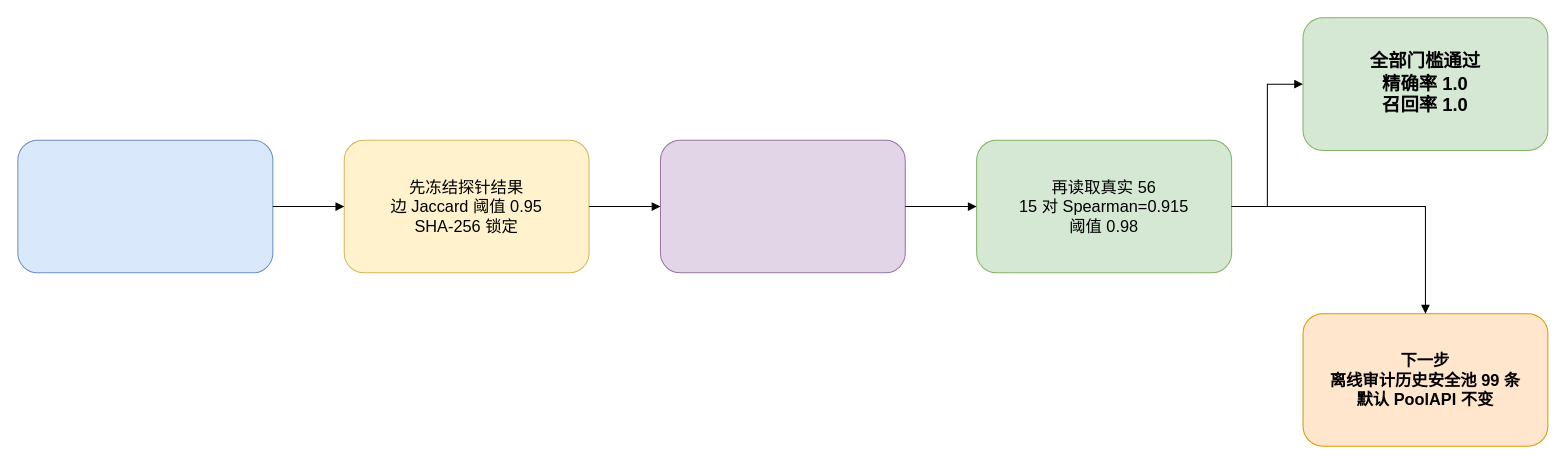
This 1566x464 diagram has some shape labels left out. The box of each missing label's shape, as (x1, y1, x2, y2) in pixels:
6 个廉价探针 均匀 / 聚簇 / 环状 128 / 256 节点: (17, 139, 273, 273)
探针预判 6 对 AW 内部全冗余 R2/R4 不冗余: (659, 139, 905, 273)
